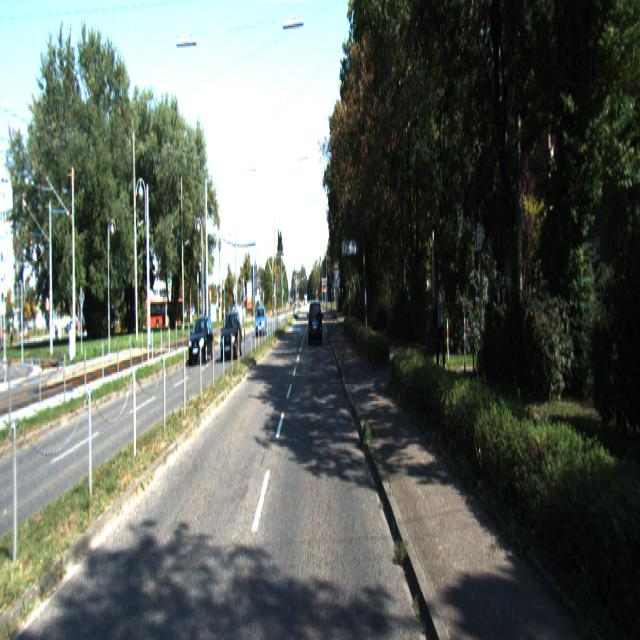Car: (188, 316, 214, 364), (220, 312, 242, 359), (308, 301, 323, 348), (255, 307, 267, 336)
